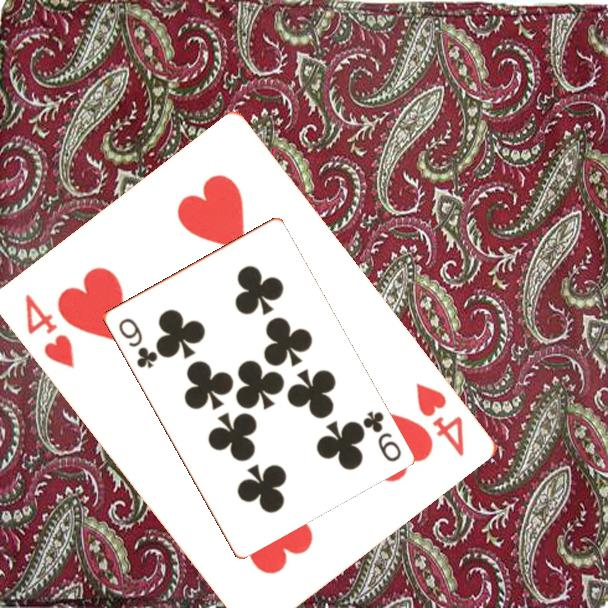c09: (359, 407, 404, 465), (115, 314, 160, 371)
h04: (22, 290, 79, 372), (412, 379, 468, 460)
